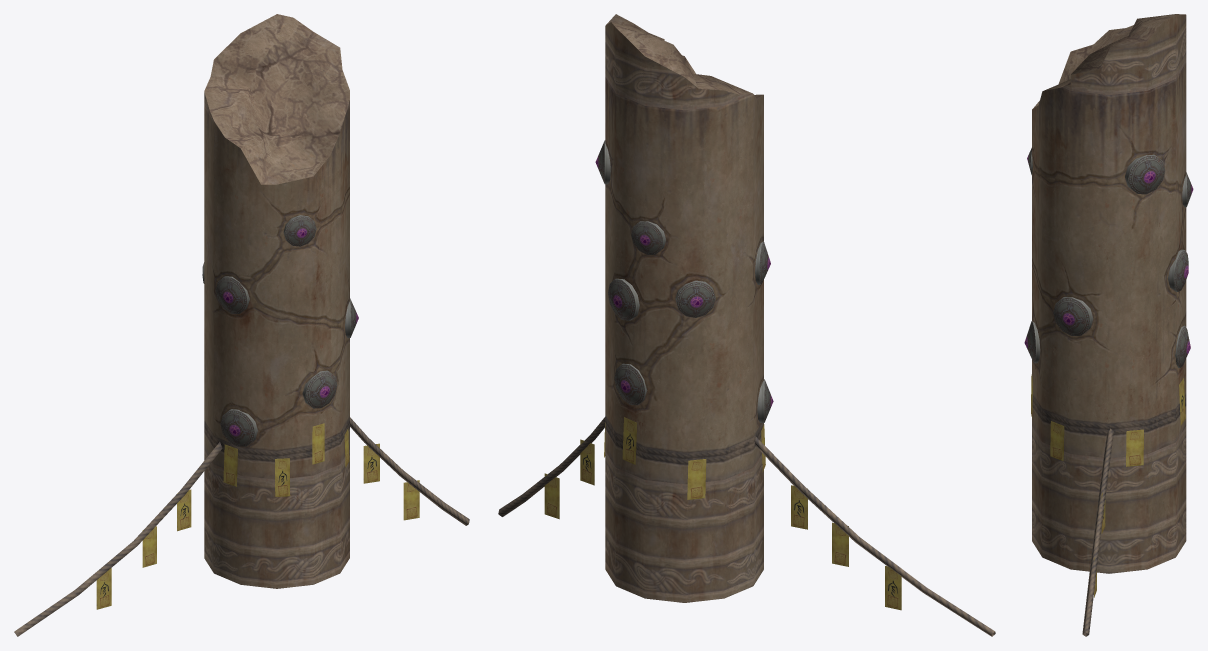
File: b_zx_shizhu01_02.FBX
3 views of the same model, side by side, from view 1: azimuth 30°, elevation 25°; view 2: azimuth 150°, elevation 25°; view 3: azimuth 270°, elevation 25° (orthographic). The views are drawn at different scales.
Parts seen in each view (by area): view 1: b_zx_shizhu01_02; view 2: b_zx_shizhu01_02; view 3: b_zx_shizhu01_02.
Part boxes in pixels (<box>): b_zx_shizhu01_02: <box>14,14,469,636</box>; b_zx_shizhu01_02: <box>498,14,995,636</box>; b_zx_shizhu01_02: <box>1024,14,1193,636</box>.
Bounding box in the file's own units: 6.34 × 6.88 × 1.93.
